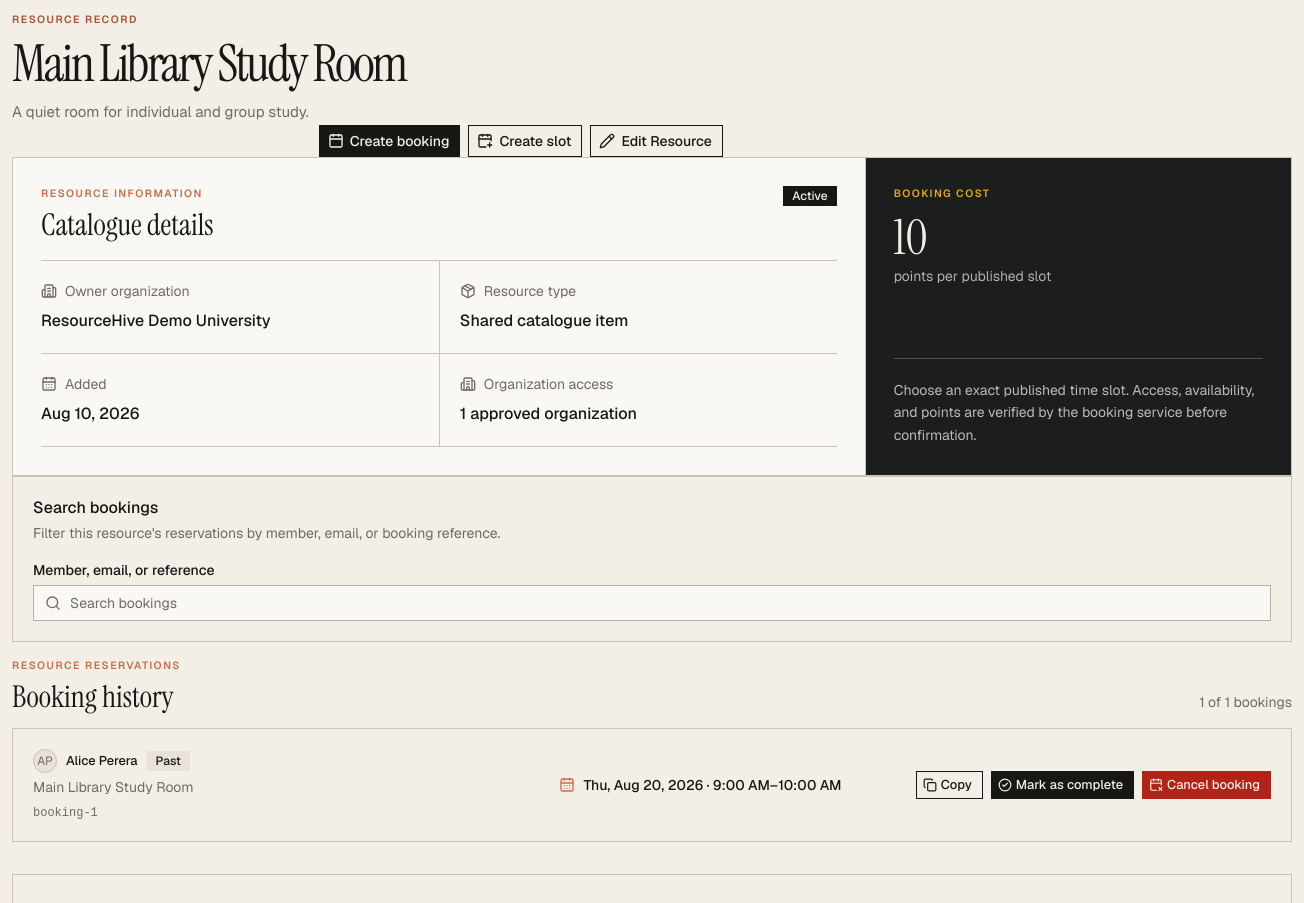
Test: ResourceDetails › lets an administrator mark a confirmed booking as completed
What coordinates should you click on to do the following:
click the button "Mark as complete"
I would click on:
 (1062, 785)
Its box is 991,771 -> 1134,799.
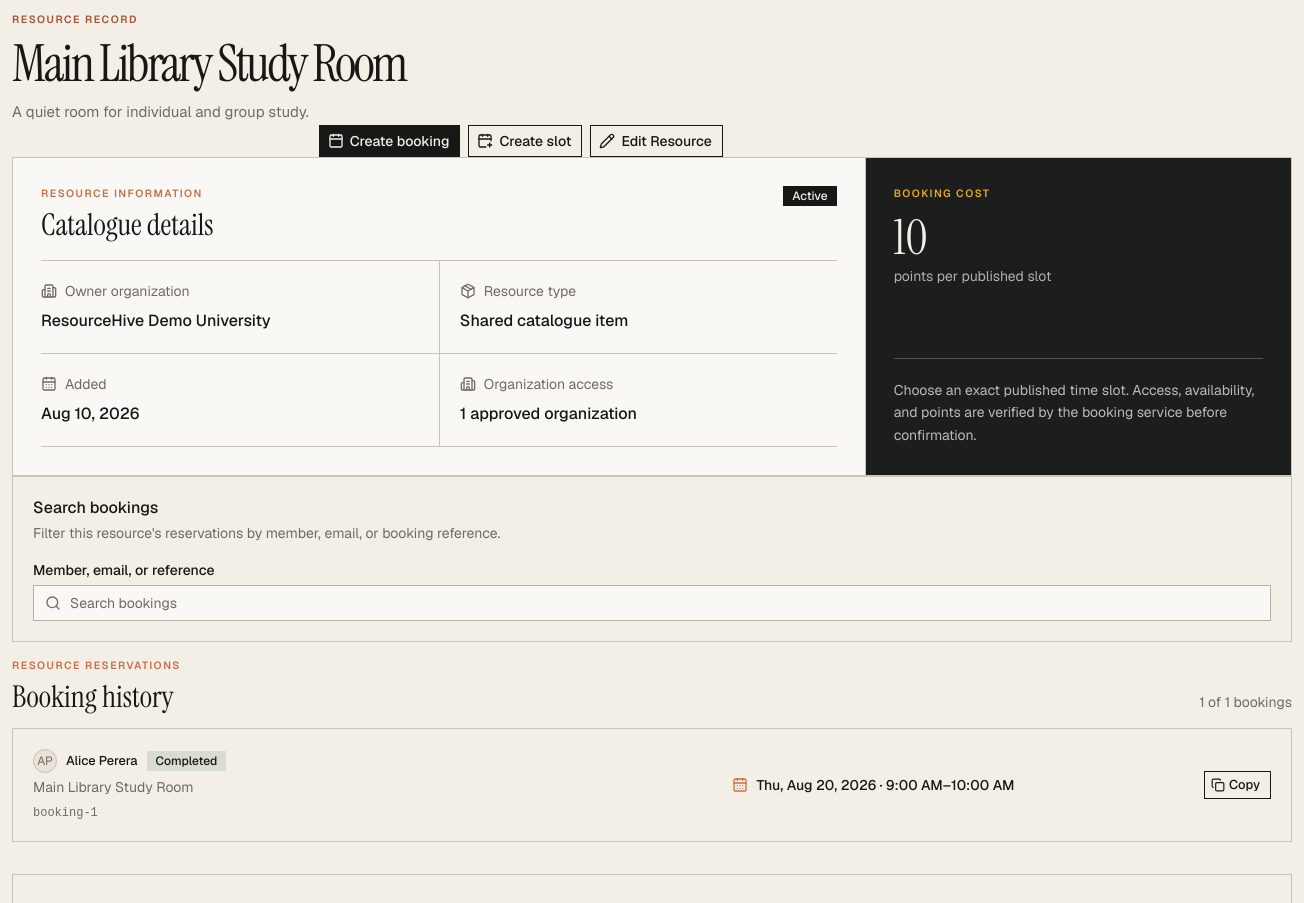
Check: the text "Completed" is shown, box 147,751 -> 226,771
Check: the button "Mark as complete" is gone
